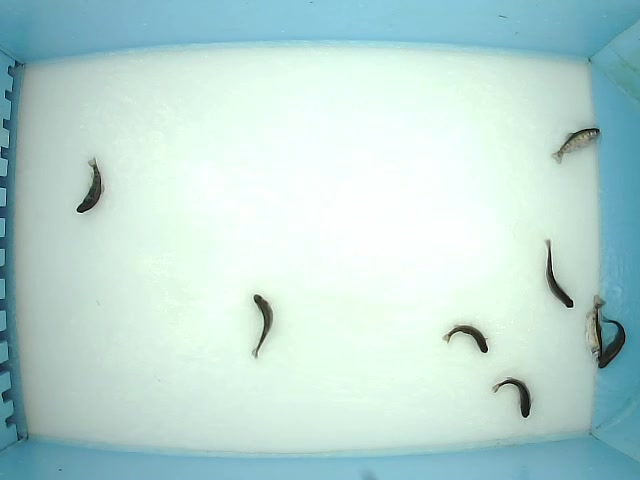fish: (543, 237, 574, 309), (549, 127, 603, 166), (491, 376, 534, 420), (74, 156, 105, 215), (597, 314, 627, 371), (250, 293, 274, 360), (441, 321, 489, 354), (583, 293, 606, 361)
